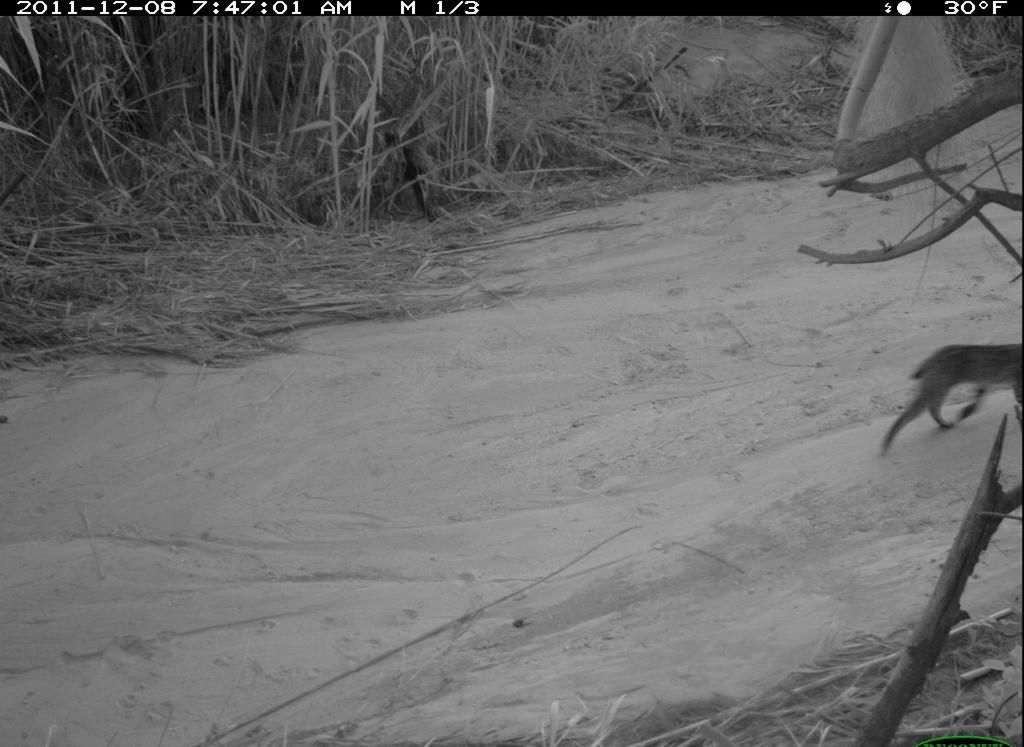bobcat: (845, 291, 1017, 507)
